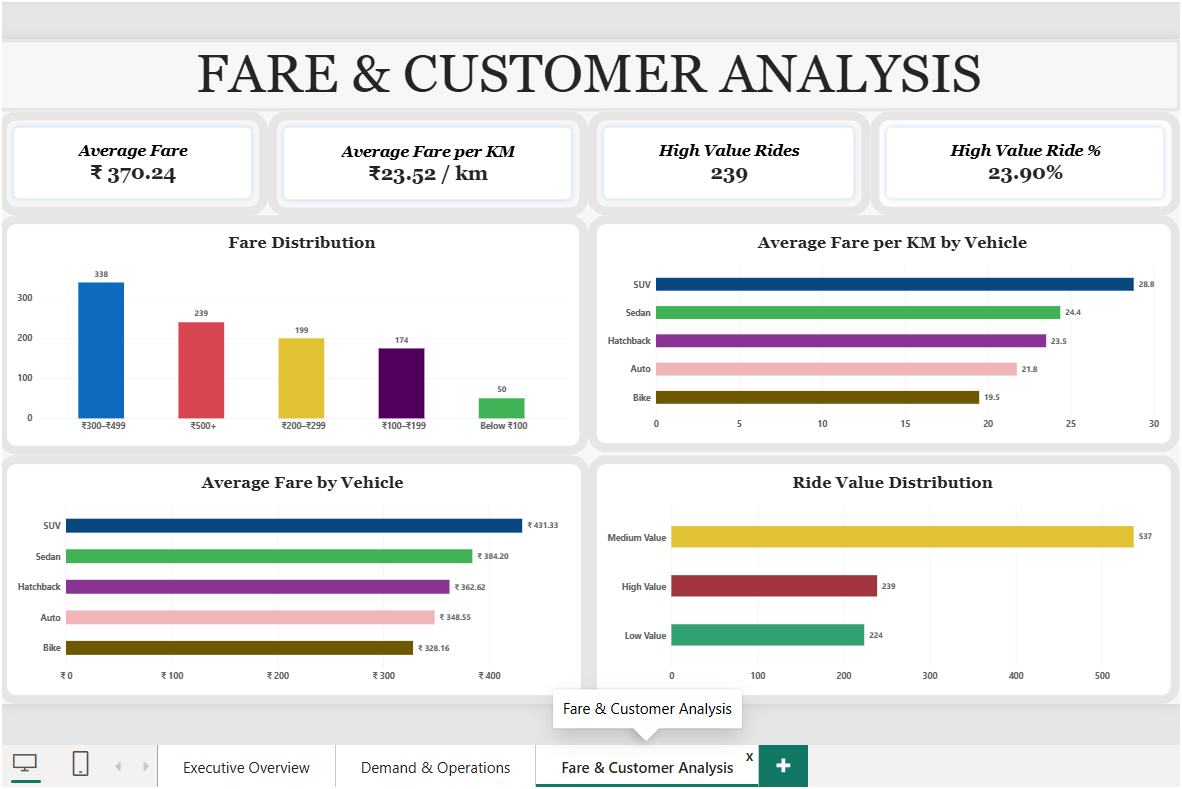

The dashboard page shown, as its layout file describes it:
{"tool":"powerbi","page":{"name":"Fare & Customer Analysis","canvas":[1920,1080],"ordinal":2},"visuals":[{"type":"textbox","box":[0,0,1920.4,117.3],"z":0},{"type":"clusteredBarChart","title":"Ride Value Distribution","fields":{"Category":["UrbanCabFare.Fare Category"],"Y":["CountNonNull(UrbanCabFare.Final_Fare)"]},"box":[958.7,676.1,960.9,404.3],"z":1000},{"type":"clusteredBarChart","title":"Average Fare by Vehicle","fields":{"Category":["UrbanCabFare.Type_of_vehicle"],"Y":["UrbanCabFare.Average Fare"]},"box":[0,676.1,960.9,404.3],"z":2000},{"type":"clusteredColumnChart","title":"Fare Distribution","fields":{"Category":["UrbanCabFare.Fare Band"],"Y":["CountNonNull(UrbanCabFare.Final_Fare)"]},"box":[0,287,958.7,389.1],"z":3000},{"type":"clusteredBarChart","title":"Average Fare per KM by Vehicle","fields":{"Category":["UrbanCabFare.Type_of_vehicle"],"Y":["Avg(UrbanCabFare.Fare per KM)"]},"box":[958.7,287,960.9,384.8],"z":4000},{"type":"cardVisual","fields":{"Data":["UrbanCabFare.Average Fare"]},"box":[0,117.7,438.5,168.5],"z":5000},{"type":"cardVisual","fields":{"Data":["UrbanCabFare.Average Fare per KM"]},"box":[438.5,117.7,519.7,170.5],"z":6000},{"type":"cardVisual","fields":{"Data":["UrbanCabFare.High Value Rides"]},"box":[958.2,117.7,458.8,168.5],"z":7000},{"type":"cardVisual","fields":{"Data":["UrbanCabFare.High Value Ride %"]},"box":[1417,117.7,503.4,168.5],"z":8000}]}

Visuals, with their boxes on the page's 1920x1080 design canvas (x1, y1, x2, y2). These are canvas units, not pixel positions in the 1182x789 screenshot, which may show the page scaled, cropped or inside an application window:
textbox: {"left": 0, "top": 0, "right": 1920, "bottom": 117}
"Ride Value Distribution" clusteredBarChart: {"left": 959, "top": 676, "right": 1920, "bottom": 1080}
"Average Fare by Vehicle" clusteredBarChart: {"left": 0, "top": 676, "right": 961, "bottom": 1080}
"Fare Distribution" clusteredColumnChart: {"left": 0, "top": 287, "right": 959, "bottom": 676}
"Average Fare per KM by Vehicle" clusteredBarChart: {"left": 959, "top": 287, "right": 1920, "bottom": 672}
cardVisual - UrbanCabFare.Average Fare: {"left": 0, "top": 118, "right": 438, "bottom": 286}
cardVisual - UrbanCabFare.Average Fare per KM: {"left": 438, "top": 118, "right": 958, "bottom": 288}
cardVisual - UrbanCabFare.High Value Rides: {"left": 958, "top": 118, "right": 1417, "bottom": 286}
cardVisual - UrbanCabFare.High Value Ride %: {"left": 1417, "top": 118, "right": 1920, "bottom": 286}
